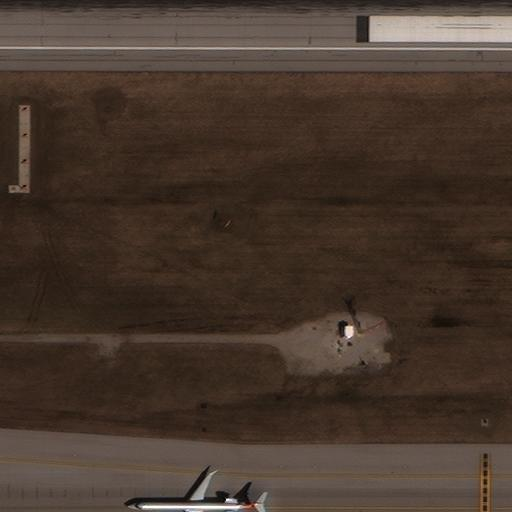Medium Civil Transport: (127, 473, 266, 511)
